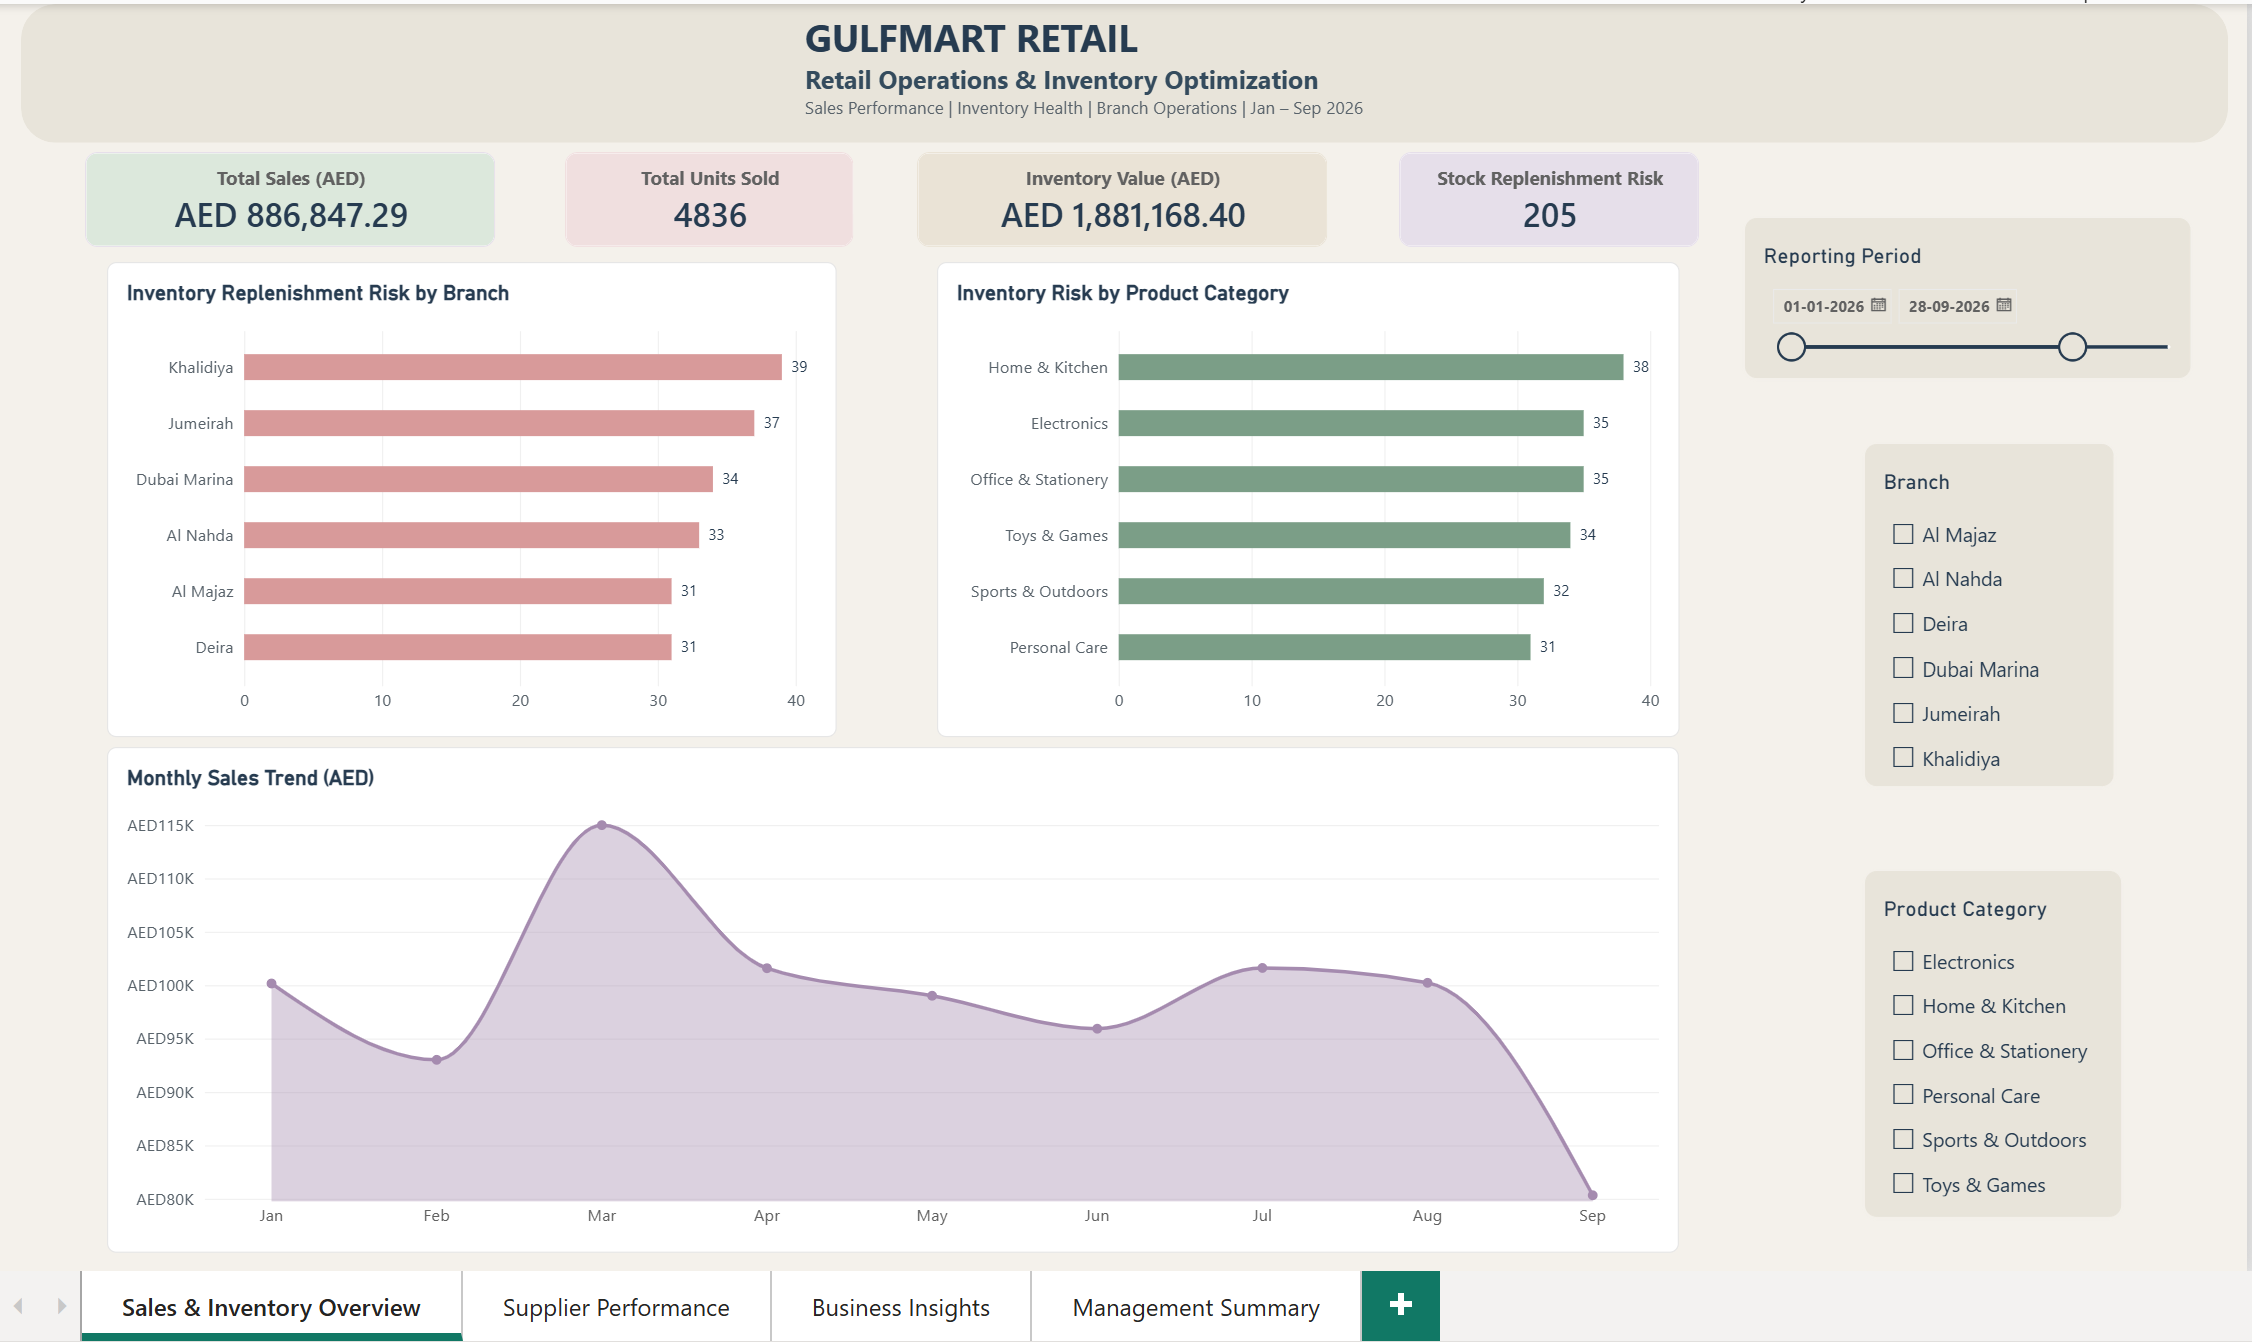

The page's visual inventory and layout, read from the dashboard file:
{"tool":"powerbi","page":{"name":"Sales & Inventory Overview","canvas":[1920,1080],"ordinal":0},"visuals":[{"type":"cardVisual","fields":{"Data":["Sales.Total Sales (AED) for chart"]},"box":[74.8,126.4,350,81.2],"z":0},{"type":"cardVisual","fields":{"Data":["Inventory.Inventory Value (AED) for card"]},"box":[785.5,126.3,350,81.2],"z":1000},{"type":"cardVisual","fields":{"Data":["Sales.Total Units Sold"]},"box":[484.2,126.3,246.9,81.2],"z":2000},{"type":"lineChart","title":"Monthly Sales Trend (AED)","fields":{"Category":["DateTable.Month"],"Y":["Sales.Total Sales AED"]},"box":[93.4,632.9,1340.8,431.6],"z":3000},{"type":"cardVisual","fields":{"Data":["Inventory.Products Below Reorder Level"]},"box":[1196.1,126.3,256.2,81.2],"z":4000},{"type":"clusteredBarChart","title":"Inventory Replenishment Risk by Branch","fields":{"Category":["Branches.BranchName"],"Y":["Inventory.Products Below Reorder Level"]},"box":[93.5,219.6,622.7,404.5],"z":5000},{"type":"clusteredBarChart","title":"Inventory Risk by Product Category","fields":{"Category":["Products.Category"],"Y":["Inventory.Products Below Reorder Level"]},"box":[784.8,220.1,633.3,404.5],"z":6000},{"type":"slicer","title":"Reporting Period","fields":{"Values":["DateTable.Date"]},"box":[1492.9,167.2,380.5,150.1],"z":7000},{"type":"slicer","title":"\tBranch","fields":{"Values":["Branches.BranchName"]},"box":[1597,373.6,211.9,291],"z":8000},{"type":"slicer","title":"\tProduct Category","fields":{"Values":["Products.Category"]},"box":[1593.6,749,218.7,294.8],"z":9000},{"type":"shape","box":[19.7,0,1882.9,118.4],"z":10000},{"type":"textbox","box":[689.1,6.5,540,105.9],"z":11000}]}

Visuals, with their boxes on the page's 1920x1080 design canvas (x1, y1, x2, y2). These are canvas units, not pixel positions in the 2252x1342 screenshot, which may show the page scaled, cropped or inside an application window:
cardVisual - Sales.Total Sales (AED) for chart: <bbox>75, 126, 425, 208</bbox>
cardVisual - Inventory.Inventory Value (AED) for card: <bbox>786, 126, 1136, 208</bbox>
cardVisual - Sales.Total Units Sold: <bbox>484, 126, 731, 208</bbox>
"Monthly Sales Trend (AED)" lineChart: <bbox>93, 633, 1434, 1064</bbox>
cardVisual - Inventory.Products Below Reorder Level: <bbox>1196, 126, 1452, 208</bbox>
"Inventory Replenishment Risk by Branch" clusteredBarChart: <bbox>94, 220, 716, 624</bbox>
"Inventory Risk by Product Category" clusteredBarChart: <bbox>785, 220, 1418, 625</bbox>
"Reporting Period" slicer: <bbox>1493, 167, 1873, 317</bbox>
"	Branch" slicer: <bbox>1597, 374, 1809, 665</bbox>
"	Product Category" slicer: <bbox>1594, 749, 1812, 1044</bbox>
shape: <bbox>20, 0, 1903, 118</bbox>
textbox: <bbox>689, 6, 1229, 112</bbox>
